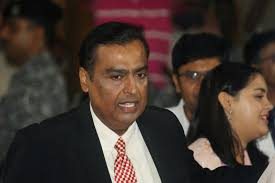No-Glasses: (95, 69, 153, 84)
